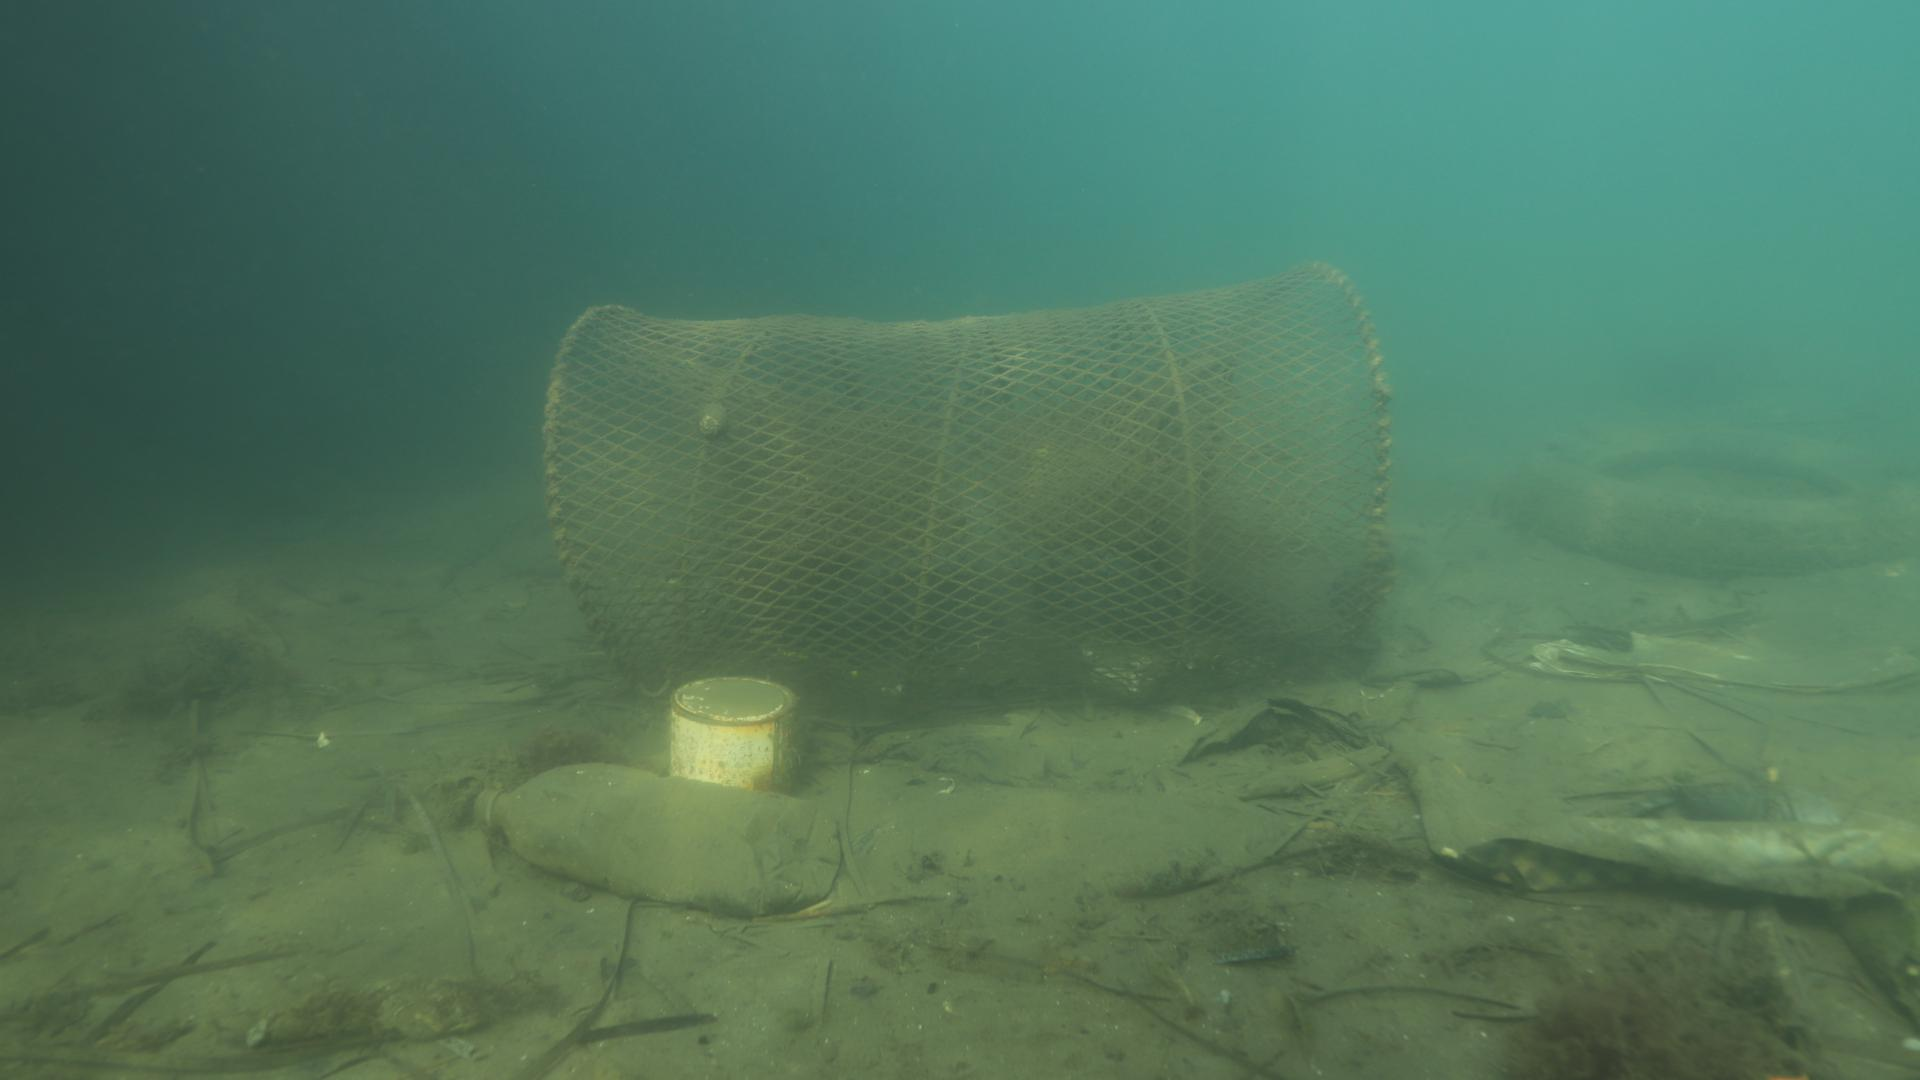spring fish trap: (537, 253, 1404, 736)
tire: (1485, 407, 1920, 567)
